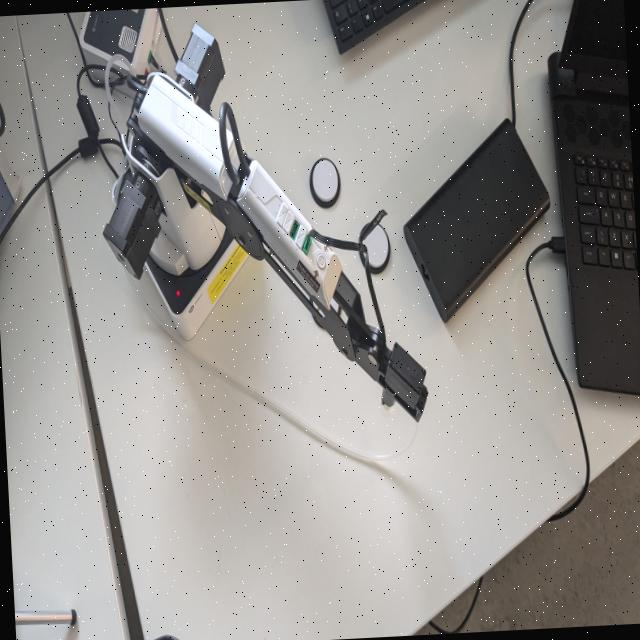Robot-end-effector-HF8z: (368, 332, 437, 434)
